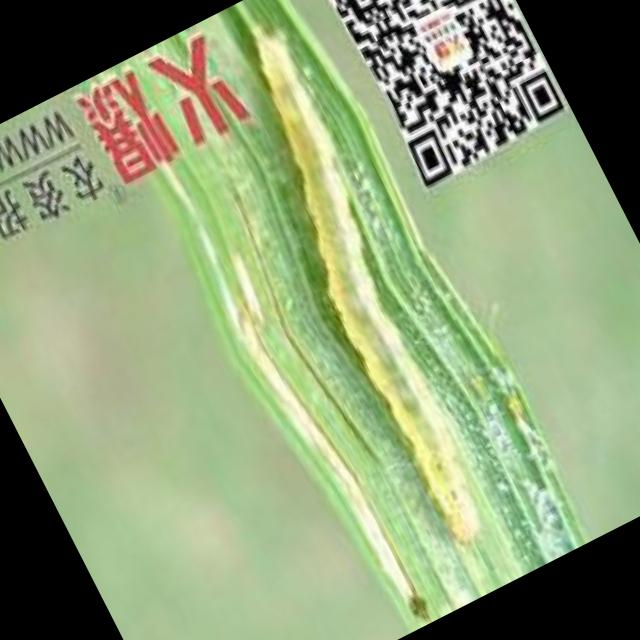leaf-folder: (208, 8, 531, 537)
